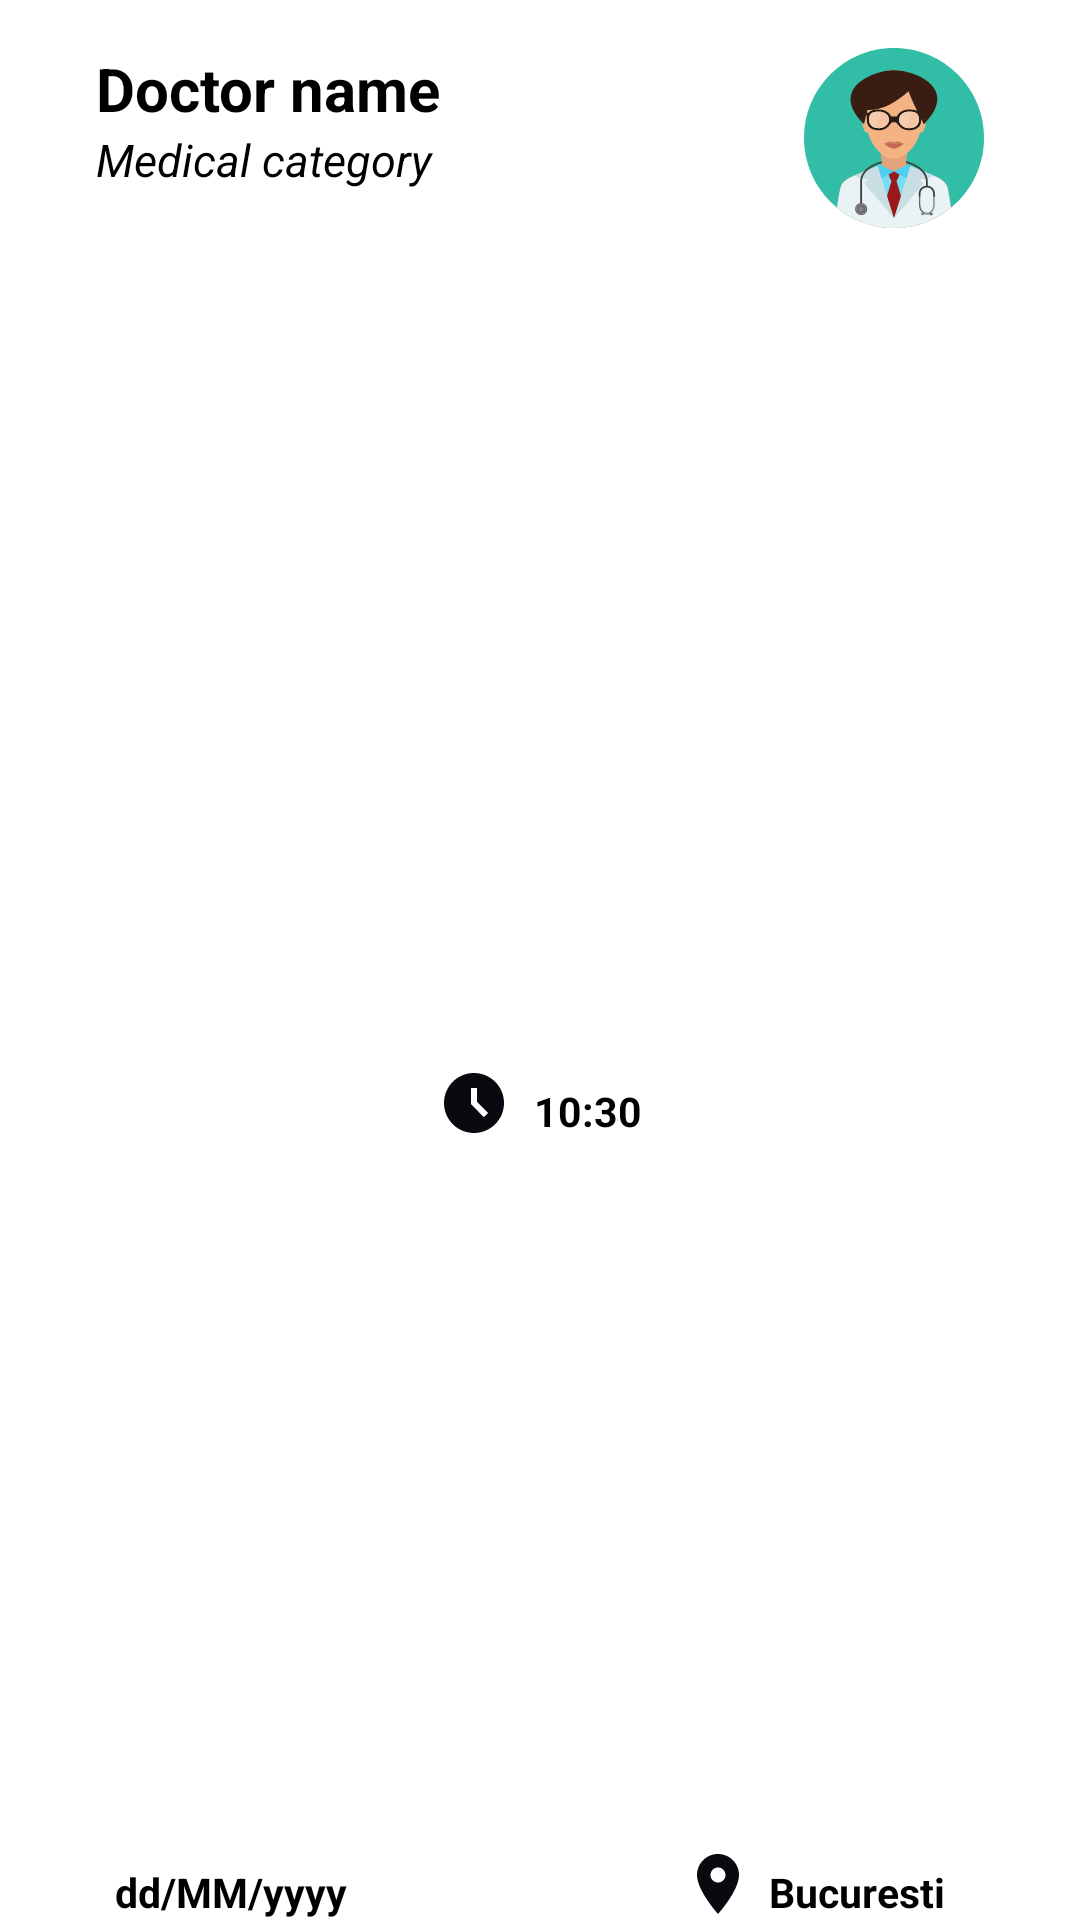

Screen size 1080w x 1920h. Icon name, then its center in pixels as point (x, y):
doctor picture: point (894, 138)
row view clock: point (474, 1103)
row view location: point (718, 1884)
